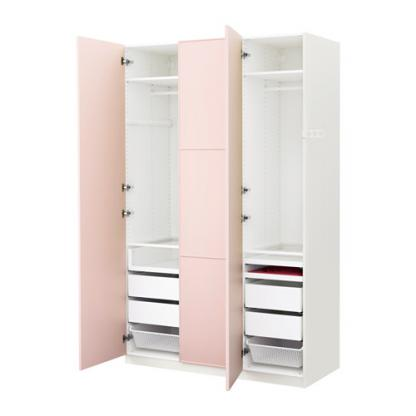Cabinet: (70, 24, 344, 395)
